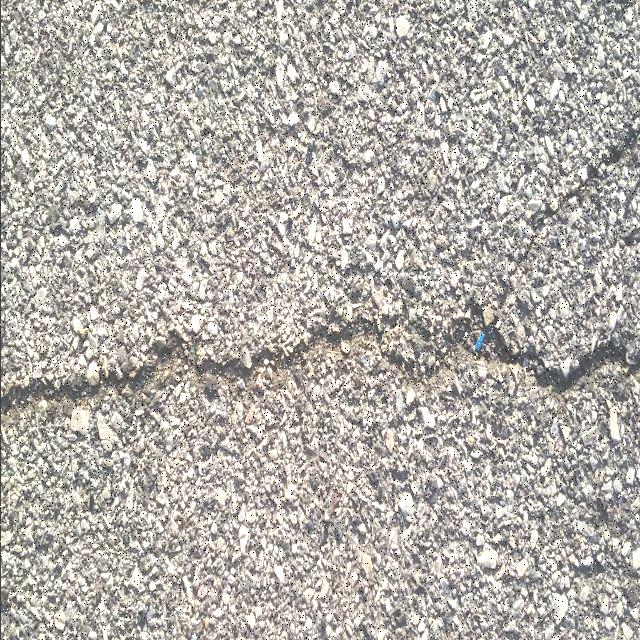Crack: (0, 301, 640, 422), (489, 123, 640, 323)
